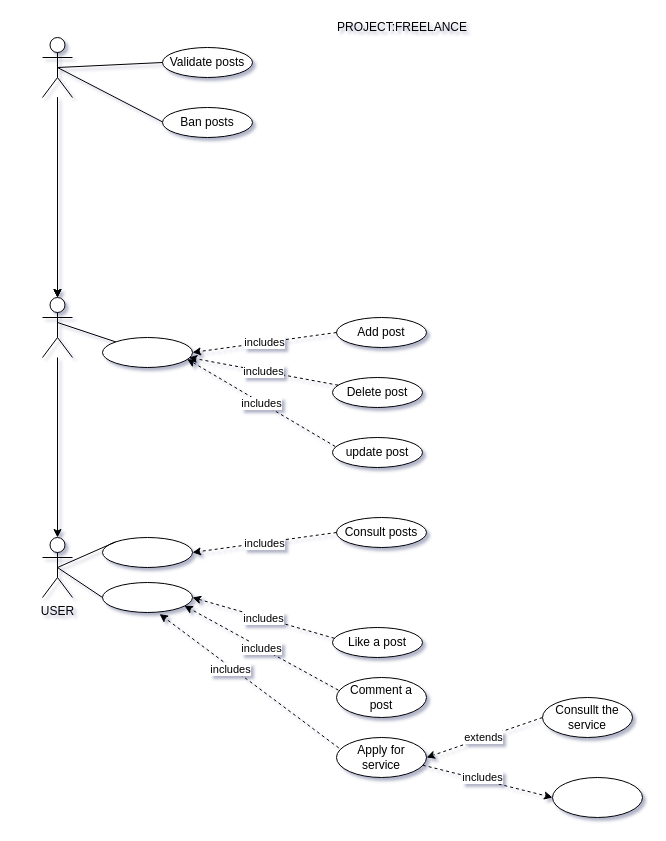
Some shapes in this 666 by 841 pixel diagram are drawn without their labels. Here are the shapes that lost their labels. From the top down, the centre of each, then its label:
[57,67]: ADMIN
[57,327]: FREELANCER
[147,352]: Login as freelancer
[147,552]: Register
[147,597]: Login as client
[597,797]: Payment
